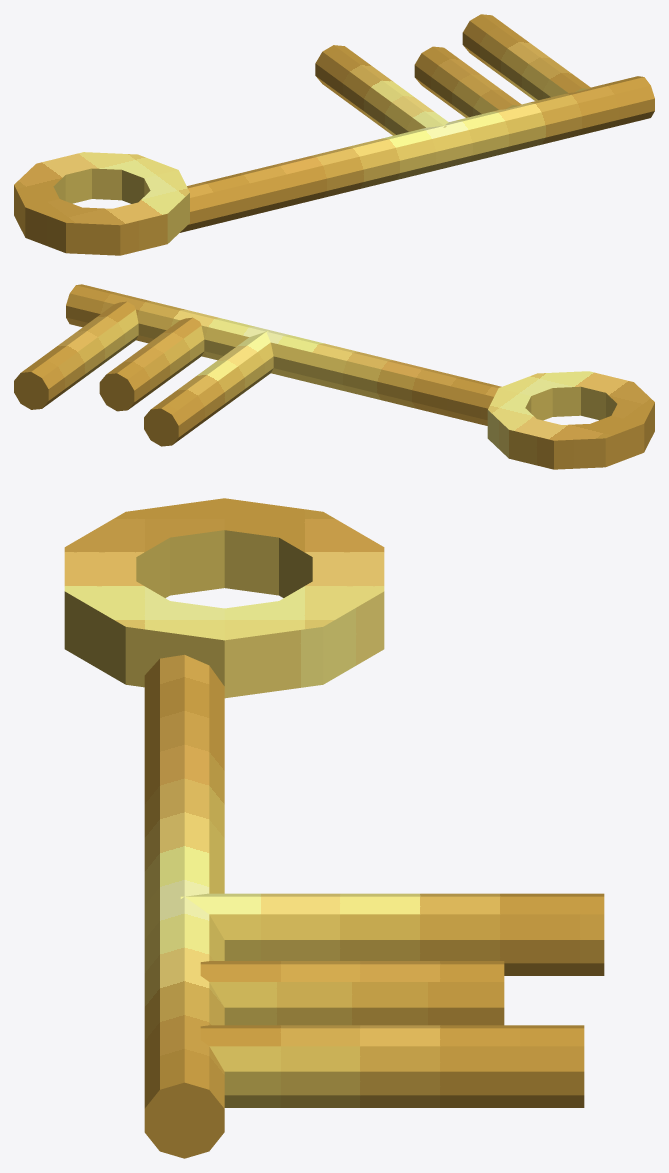
File: Key.obj
3 renders of one model, top to bottom at view 1: azimuth 30°, elevation 25°; view 2: azimuth 150°, elevation 25°; view 3: azimuth 270°, elevation 25°, orthographic. The views are drawn at different scales.
Parts seen in each view (by area): view 1: cylinder, tube; view 2: cylinder, tube; view 3: cylinder, tube.
Boxes of the visible parts, x1,y1,x2,y2 form: cylinder: (180,14,654,232); tube: (14,152,189,255); cylinder: (14,284,501,446); tube: (487,371,654,469); cylinder: (144,654,604,1158); tube: (64,498,384,698).
Size of the model in its own units: 1.04 by 0.0829 by 0.4219.
